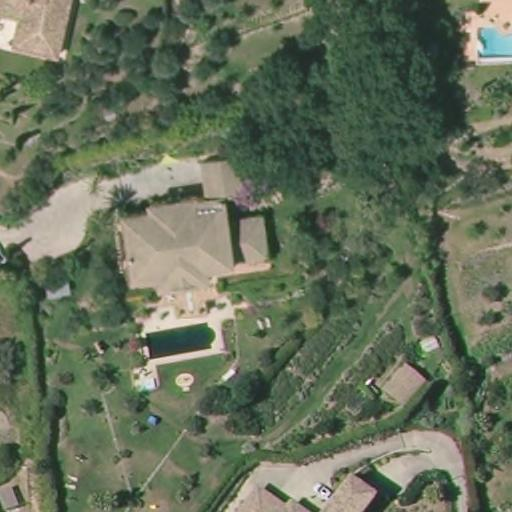pool: (142, 318, 215, 362), (469, 19, 510, 65)
